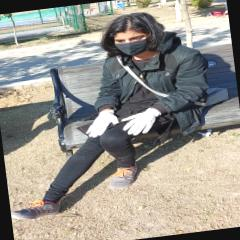gloved: (120, 106, 162, 136), (82, 108, 118, 138)
